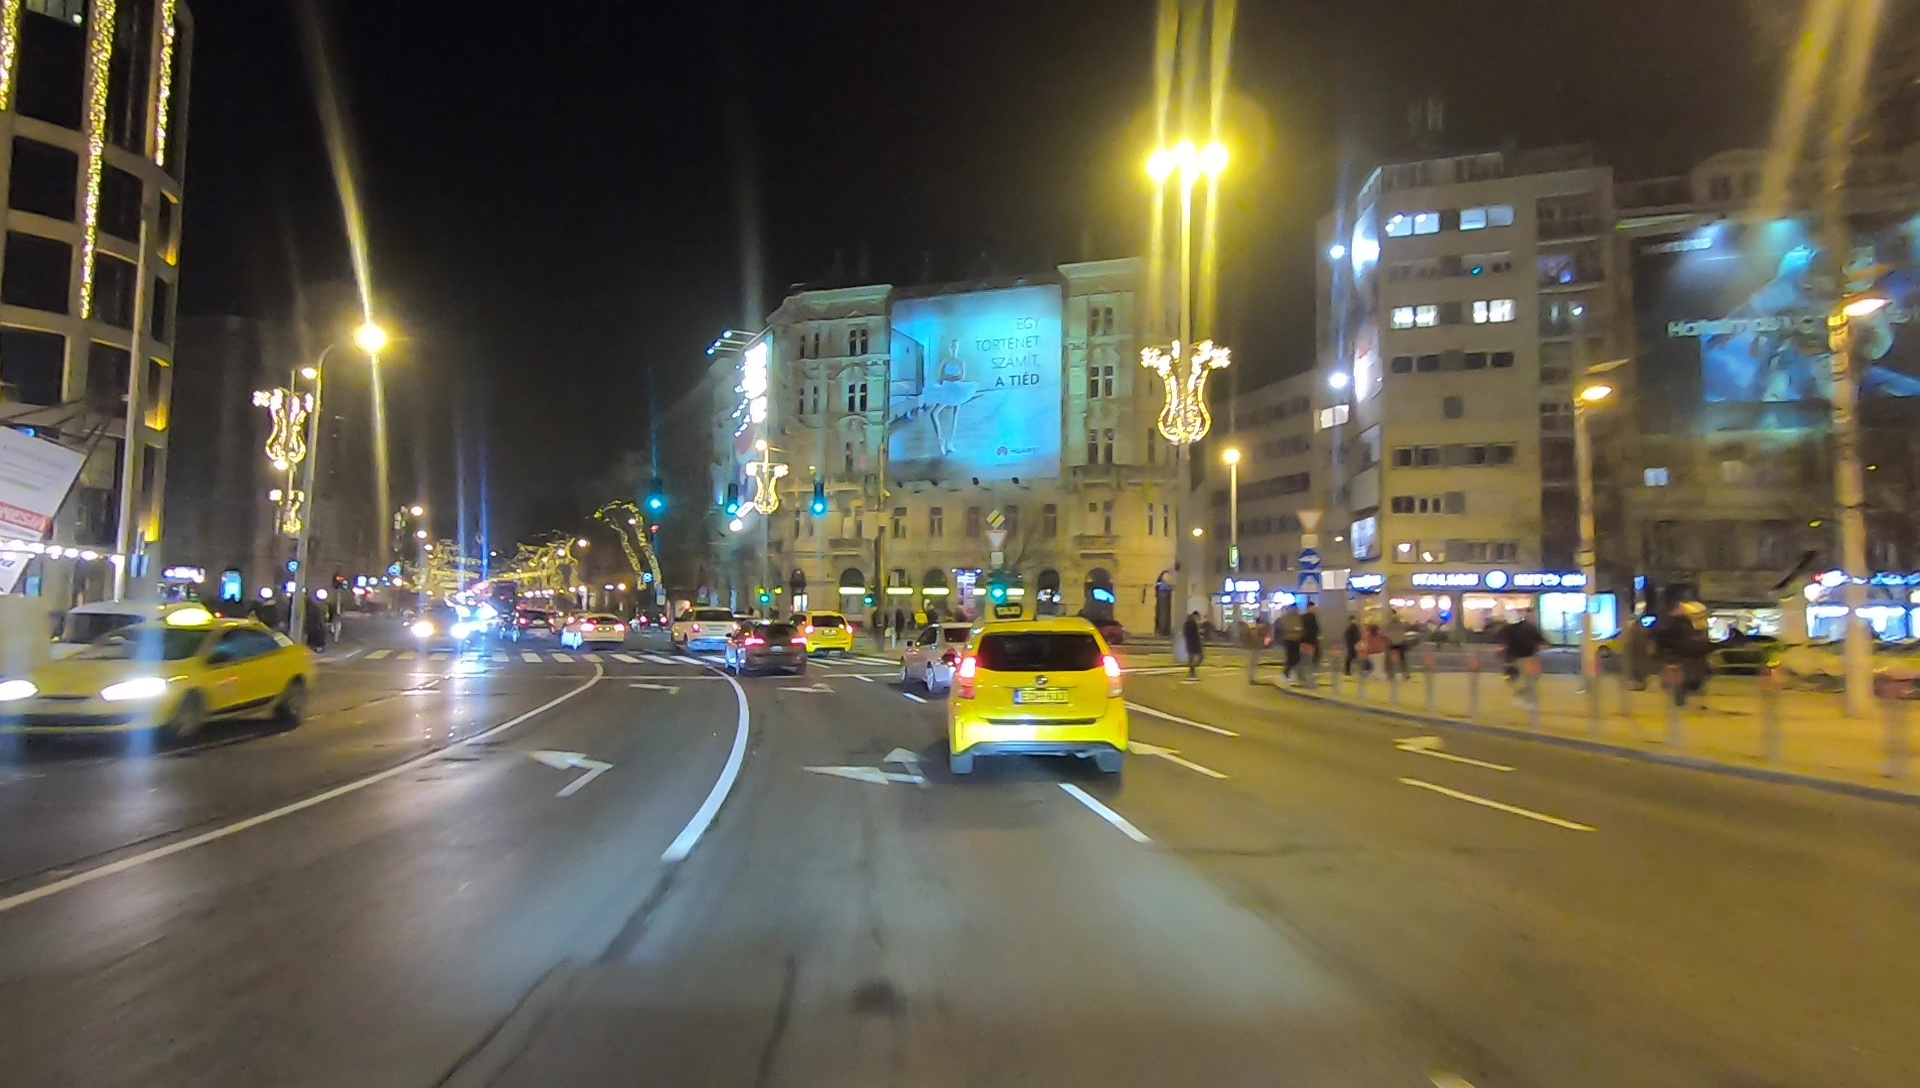person: (1660, 591, 1708, 704), (1501, 608, 1538, 700), (1178, 610, 1210, 676), (1291, 604, 1321, 669), (1343, 615, 1365, 678)
